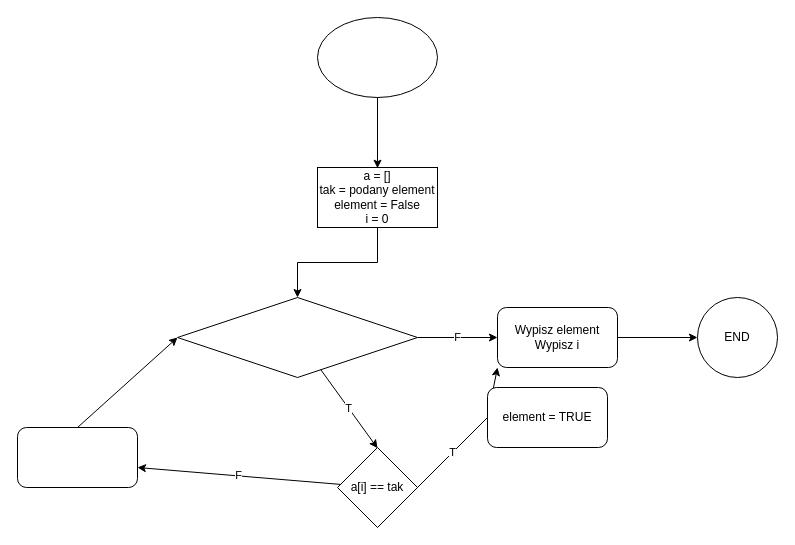
Image size: 795x545. Some labels were removed from this diagram. Each missing label, with the centre of its shape:
"i += 1" belongs at point 77,457.
"i < len(a[])" belongs at point 297,337.
"START" belongs at point 377,57.
